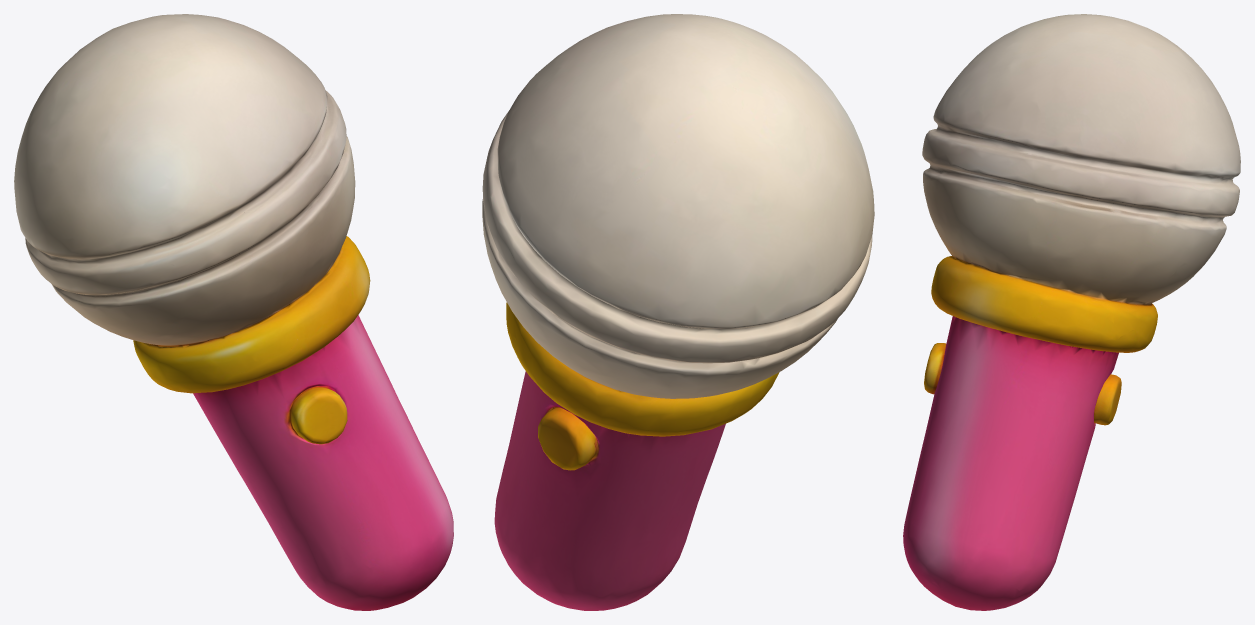
Rendered from acc-microphone.glb.
The picture shows the model from 3 angles, left to right: view 1: azimuth 30°, elevation 25°; view 2: azimuth 150°, elevation 25°; view 3: azimuth 270°, elevation 25°; orthographic projection. The views are drawn at different scales.
Visible parts, largest first — view 1: tripo_node_5eeb6e3f-3c9c-4553-be86-2121299a4501; view 2: tripo_node_5eeb6e3f-3c9c-4553-be86-2121299a4501; view 3: tripo_node_5eeb6e3f-3c9c-4553-be86-2121299a4501.
Boxes of the visible parts, <box> form: tripo_node_5eeb6e3f-3c9c-4553-be86-2121299a4501: <box>14,14,453,610</box>; tripo_node_5eeb6e3f-3c9c-4553-be86-2121299a4501: <box>482,14,874,610</box>; tripo_node_5eeb6e3f-3c9c-4553-be86-2121299a4501: <box>903,14,1240,610</box>.
Bounding box in the file's own units: 0.6496 × 1 × 0.59.
1 material, 1 textured.
